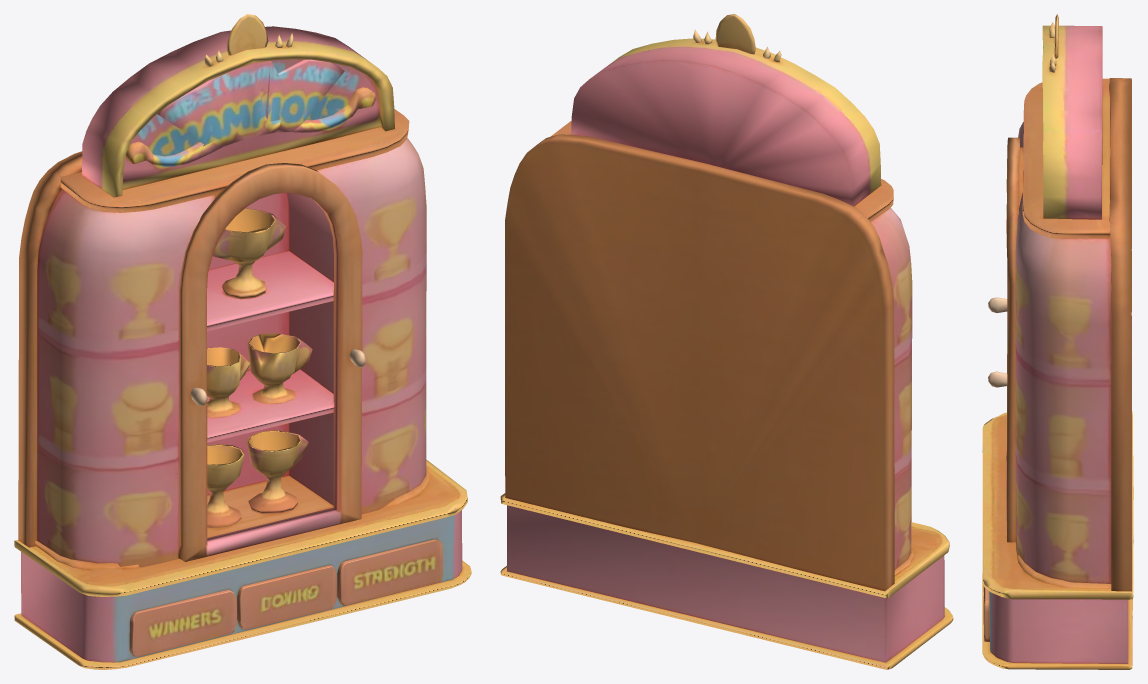
File: gym-trophy-case.glb
3 renders of one model, left to right at view 1: azimuth 30°, elevation 25°; view 2: azimuth 150°, elevation 25°; view 3: azimuth 270°, elevation 25°, orthographic. The views are drawn at different scales.
Parts seen in each view (by area): view 1: geometry_0; view 2: geometry_0; view 3: geometry_0.
Boxes of the visible parts, x1,y1,x2,y2 form: geometry_0: (14, 14, 471, 669); geometry_0: (500, 14, 953, 669); geometry_0: (982, 14, 1133, 669).
Size of the model in its own units: 0.7044 by 1 by 0.2438.
Materials: 1 (1 with a texture image).
